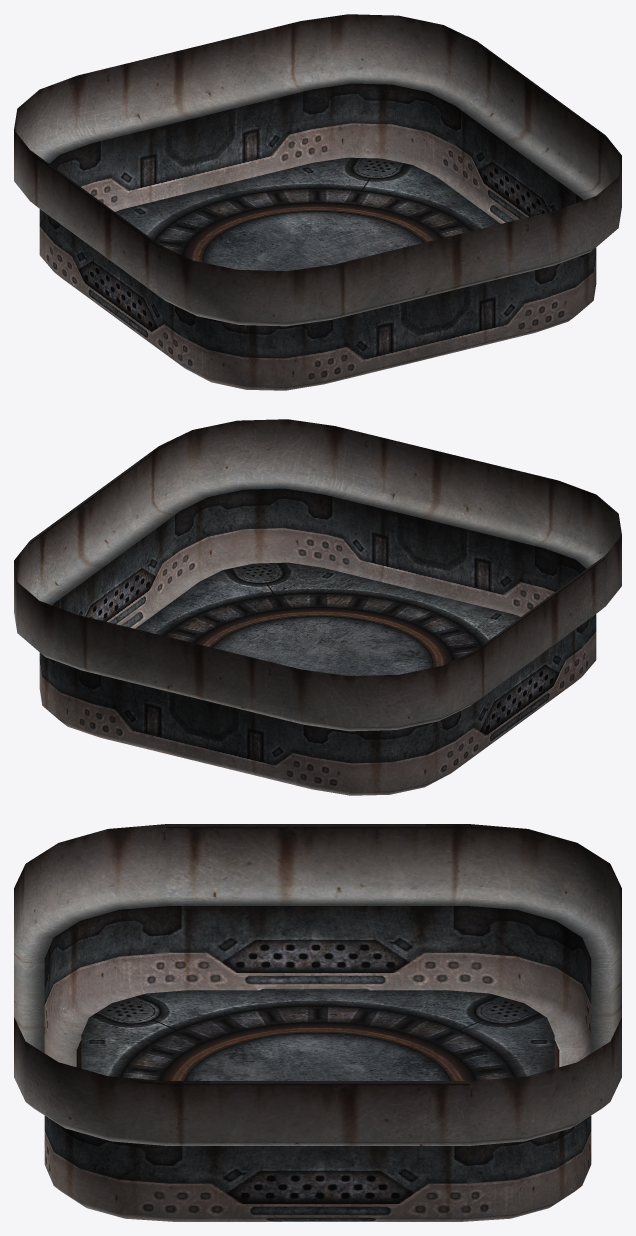
The model's file is living_area_extruded_panel_empty_white.dae.
The picture shows the model from 3 angles, top to bottom: view 1: azimuth 30°, elevation 25°; view 2: azimuth 150°, elevation 25°; view 3: azimuth 270°, elevation 25°; orthographic projection. The views are drawn at different scales.
Parts seen in each view (by area): view 1: pCube1; view 2: pCube1; view 3: pCube1.
Boxes of the visible parts, left/top/right/bottom form: pCube1: left=14, top=14, right=621, bottom=390; pCube1: left=14, top=419, right=621, bottom=795; pCube1: left=14, top=824, right=621, bottom=1221.
Size of the model in its own units: 4 by 1.15 by 4.
